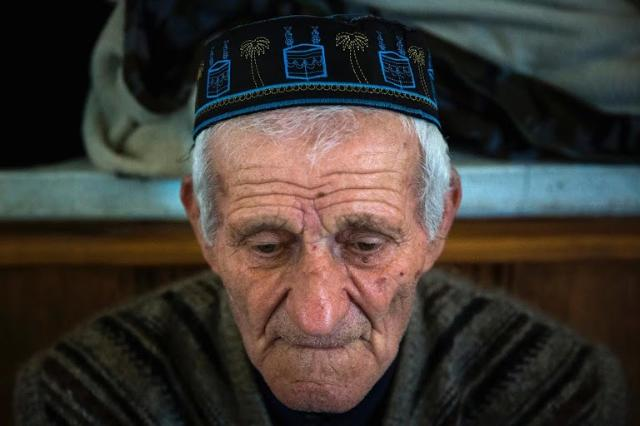chin: (290, 376, 320, 390)
forehead: (237, 174, 277, 200), (282, 176, 314, 204), (351, 182, 385, 208), (358, 162, 394, 182), (231, 200, 279, 214), (319, 186, 346, 210), (324, 162, 351, 182)
frown_line: (311, 210, 334, 236), (296, 210, 310, 238)
gummy_smile: (348, 292, 376, 324), (262, 292, 286, 324)
